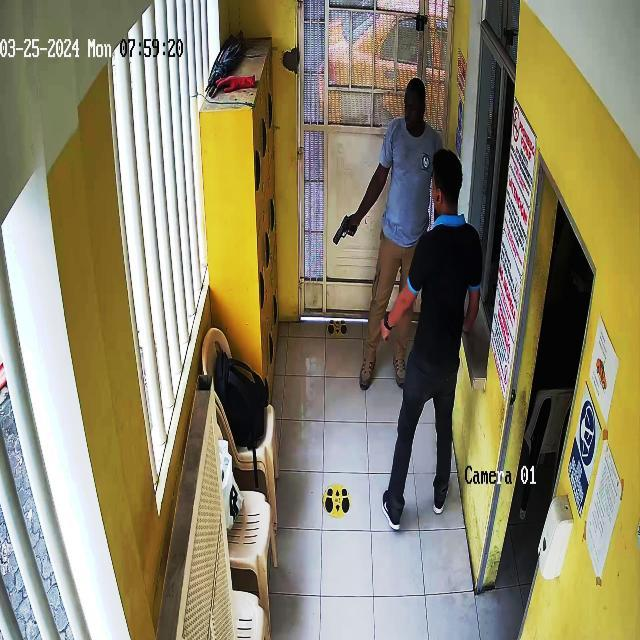Gun: (327, 210, 364, 251)
